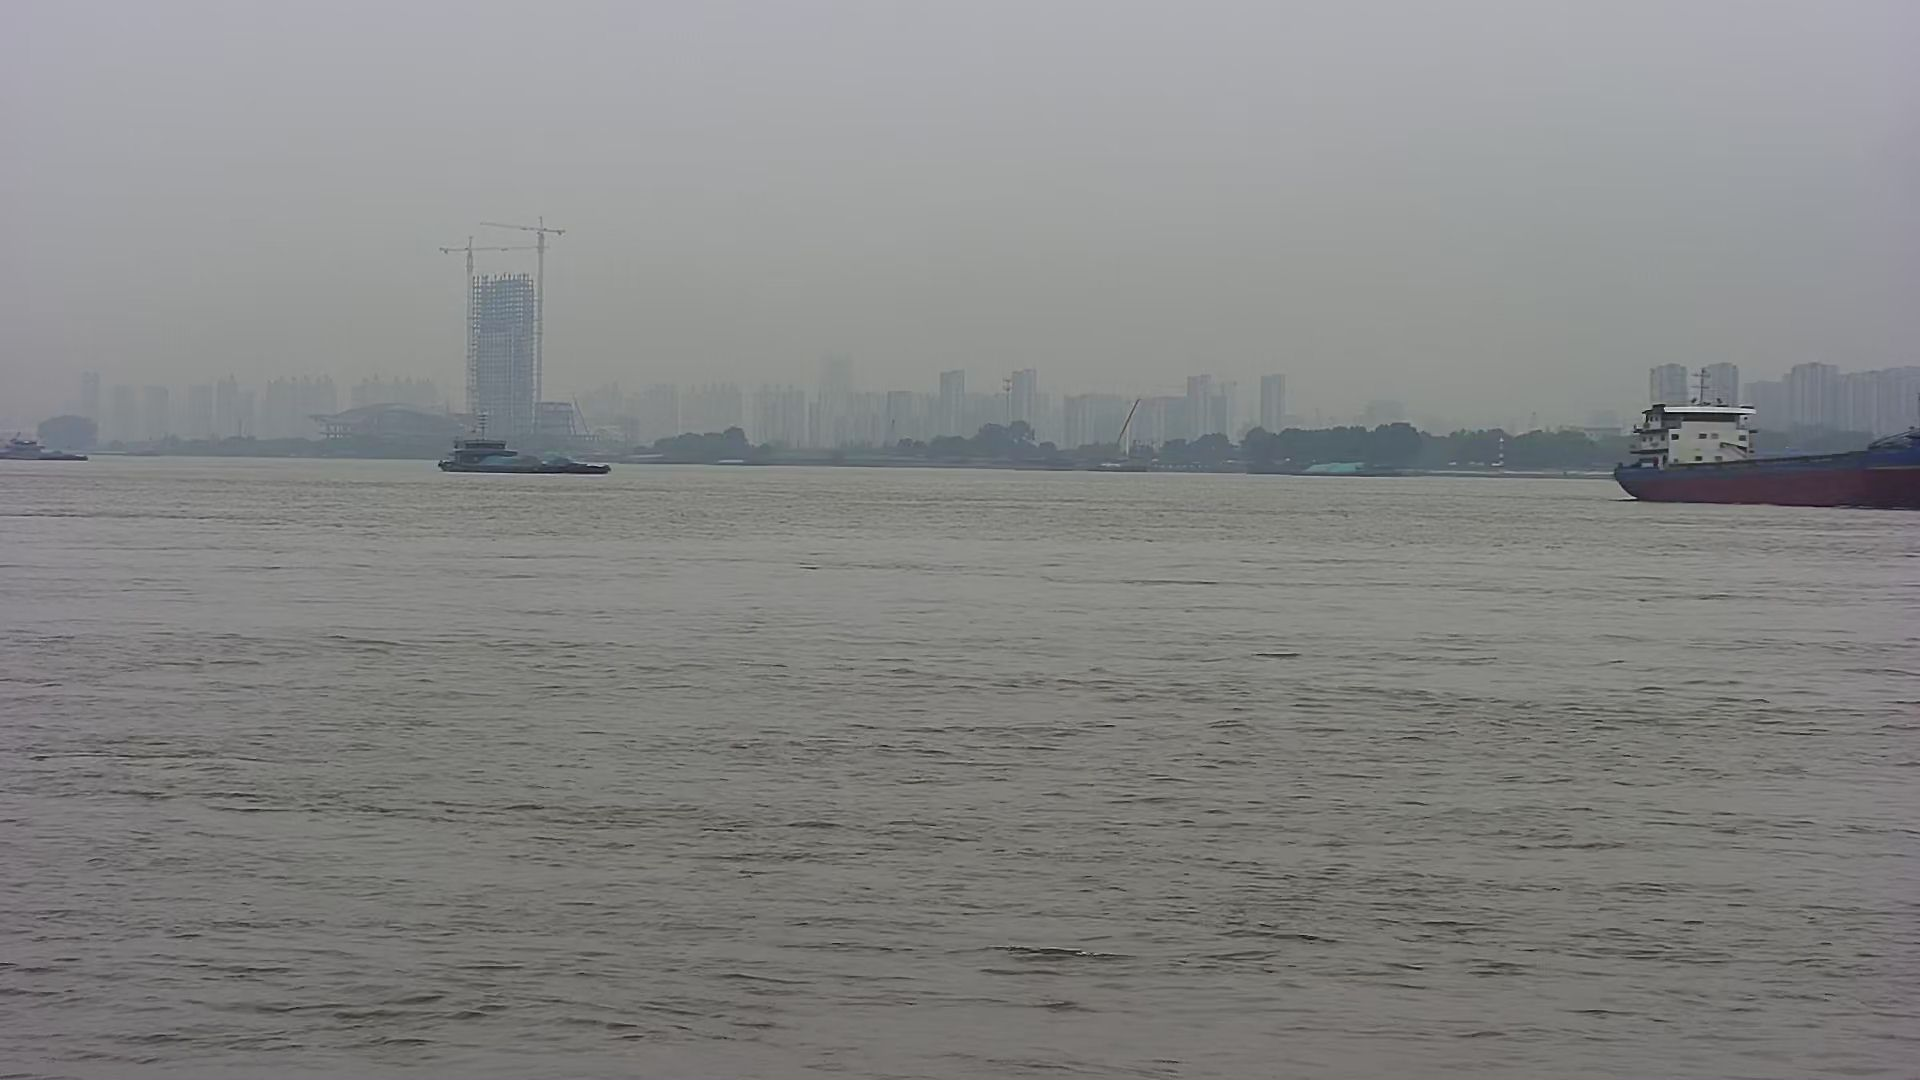ship: (1581, 351, 1920, 525), (430, 417, 620, 483), (1, 425, 102, 469)
